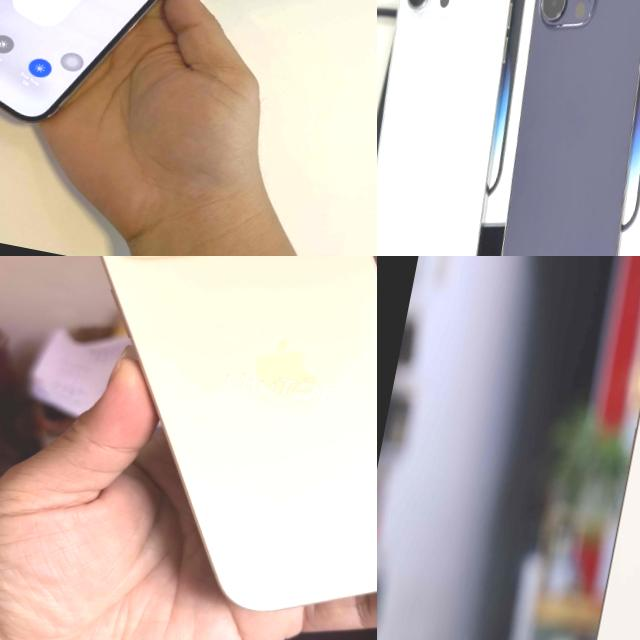gen_12_13: (0, 0, 236, 155)
gen_14: (466, 0, 640, 256)
gen_15: (9, 256, 377, 640)
gen_16: (566, 285, 640, 640)
